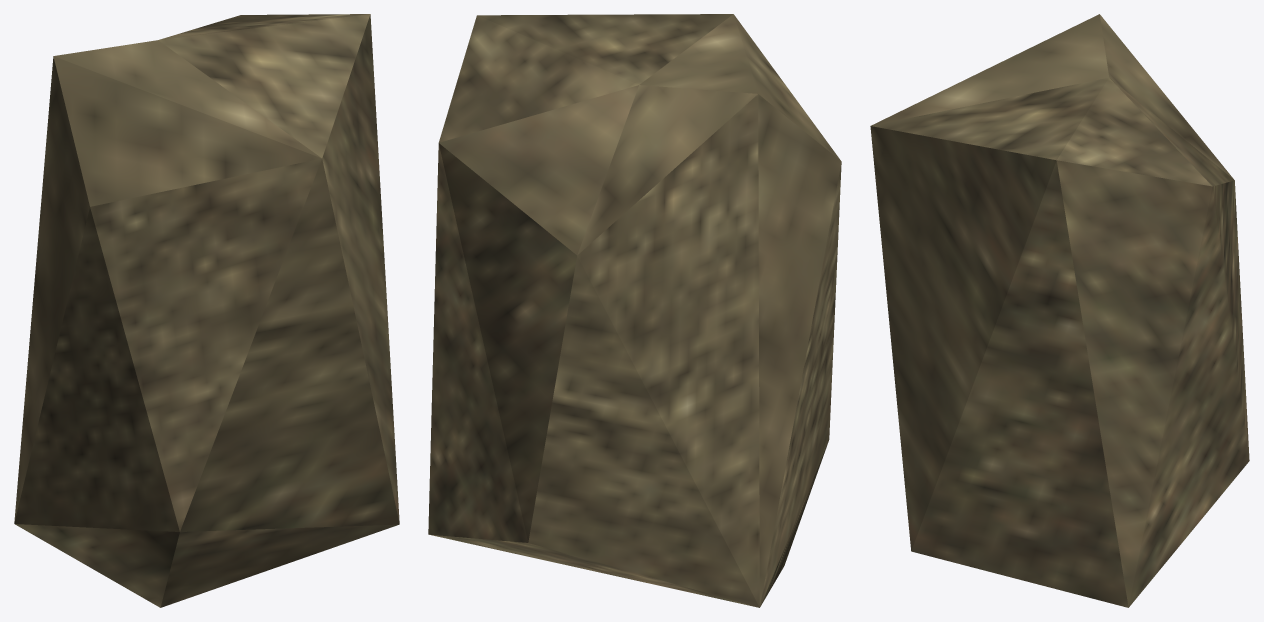
File: CaveWalls4_D_COL.obj
The picture shows the model from 3 angles, left to right: view 1: azimuth 30°, elevation 25°; view 2: azimuth 150°, elevation 25°; view 3: azimuth 270°, elevation 25°; orthographic projection. The views are drawn at different scales.
Visible parts, largest first — view 1: CaveWalls4_D.002; view 2: CaveWalls4_D.002; view 3: CaveWalls4_D.002.
Boxes of the visible parts, x1,y1,x2,y2 form: CaveWalls4_D.002: [14, 14, 399, 607]; CaveWalls4_D.002: [428, 14, 841, 607]; CaveWalls4_D.002: [870, 14, 1249, 607].
Size of the model in its own units: 10.4 by 15.73 by 11.25.
1 material, 1 textured.
